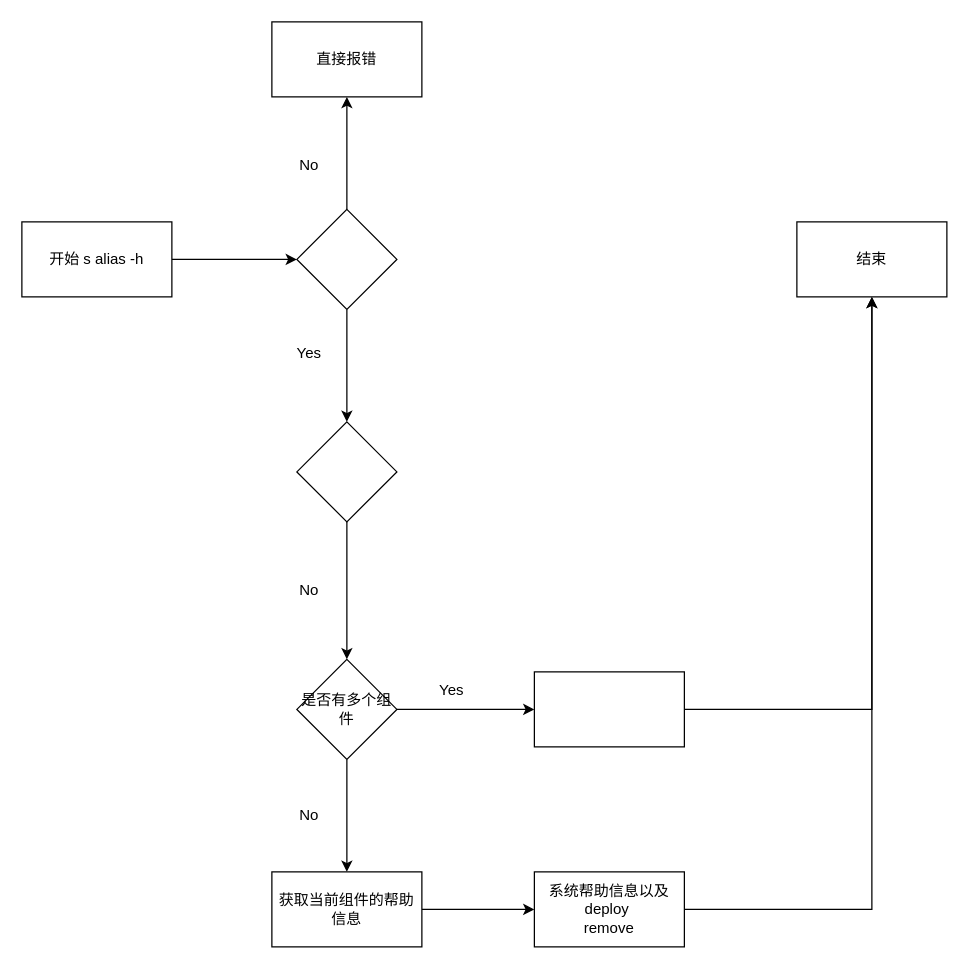
The diagram is 969 pixels wide and 969 high, and some of its shapes have lost their labels. Here are the shapes that lost their labels. From the top down, the centre of each, then its label:
At (x=346, y=258): "是否存在yaml文件".
At (x=346, y=471): "是否指定项目操作".
At (x=608, y=709): "循环遍历组件 然后显示当前组件的信息".
